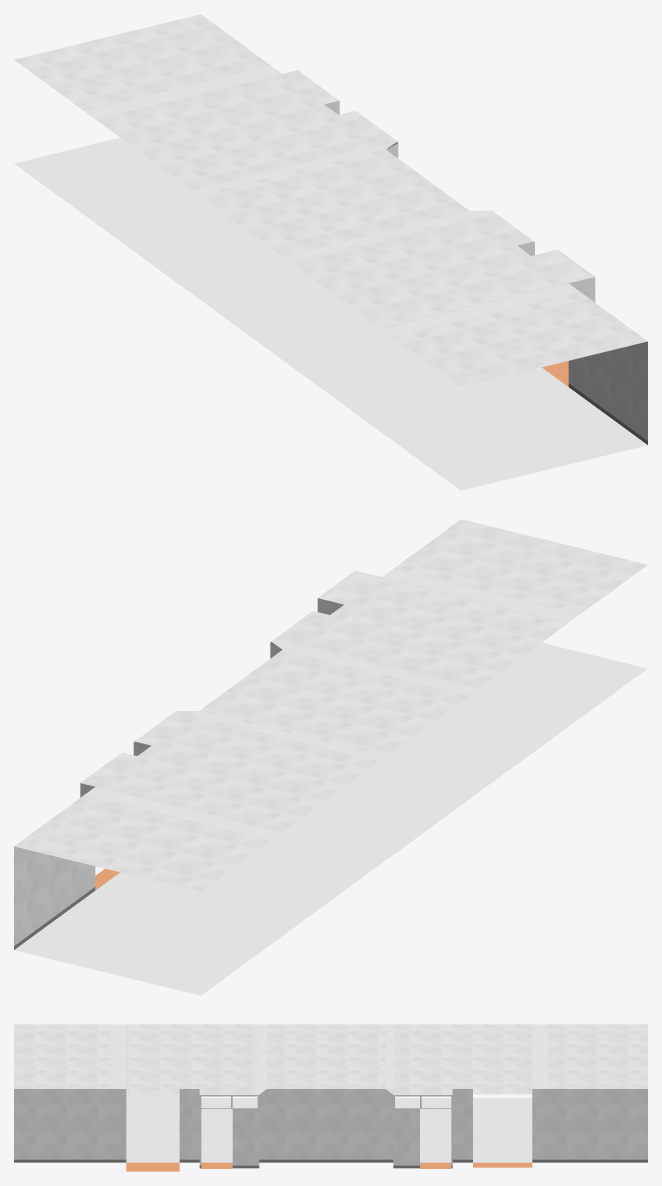
Rendered from rouka.obj.
3 views of the same model, one above another, from view 1: azimuth 30°, elevation 25°; view 2: azimuth 150°, elevation 25°; view 3: azimuth 270°, elevation 25° (orthographic). The views are drawn at different scales.
Parts seen in each view (by area): view 1: rouka_1, rouka_3, rouka_4; view 2: rouka_1, rouka_3, rouka_4; view 3: rouka_1, rouka_3, rouka_4, rouka_2, rouka_0.
Boxes of the visible parts, left/top/right/bottom form: rouka_1: left=14, top=14, right=647, bottom=440; rouka_3: left=14, top=137, right=647, bottom=490; rouka_4: left=85, top=66, right=579, bottom=336; rouka_1: left=14, top=519, right=647, bottom=945; rouka_3: left=14, top=642, right=647, bottom=995; rouka_4: left=84, top=569, right=579, bottom=840; rouka_1: left=14, top=1024, right=647, bottom=1165; rouka_3: left=126, top=1098, right=532, bottom=1162; rouka_4: left=110, top=1024, right=547, bottom=1088; rouka_2: left=14, top=1159, right=647, bottom=1168; rouka_0: left=126, top=1162, right=532, bottom=1171.
Size of the model in its own units: 5.6 by 2.6 by 20.3.
5 materials, 1 textured.
